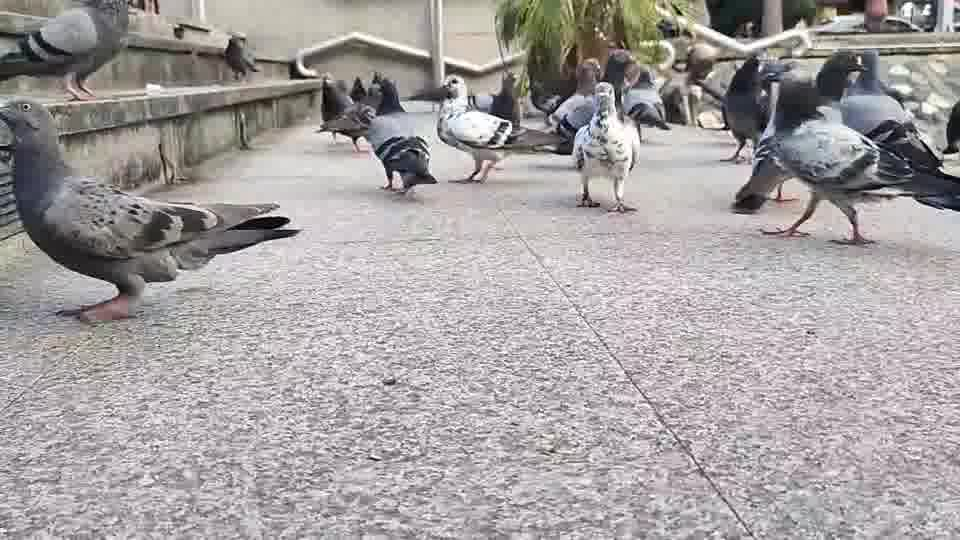Pigeon: (0, 96, 303, 323), (730, 53, 958, 246), (435, 74, 563, 184), (12, 0, 132, 102), (571, 80, 641, 213), (364, 73, 438, 194), (313, 75, 375, 152), (223, 35, 259, 80)
